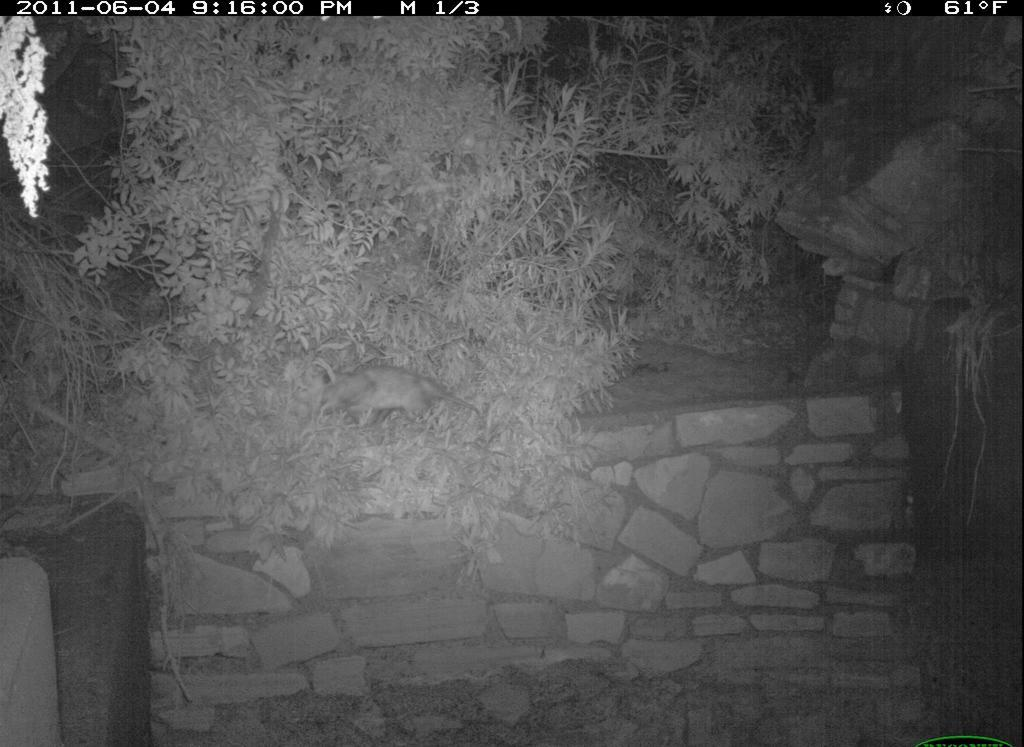opossum: (299, 351, 483, 450)
